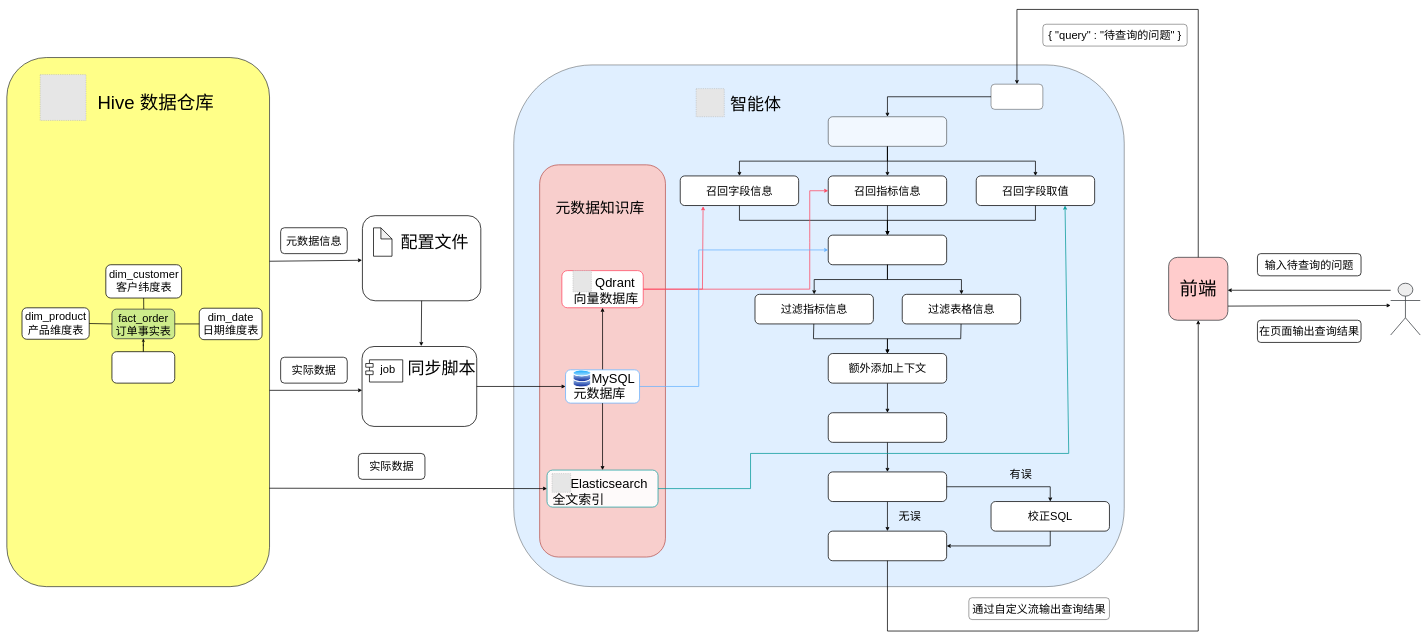
Image size: 1427x640. Some labels were removed from this diagram. Grey dashed boxes stand in for pictures. Here are the shapes that lost their labels. From the top down, the box of each, then its label:
(991, 84, 1043, 109): query
(828, 116, 947, 147): 抽取关键词
(362, 215, 481, 301): 指定需要同步的表格、字段和可以统计的指标，并提供必要说明
(828, 235, 947, 265): 合并召回信息
(1390, 283, 1420, 335): 用户
(111, 351, 175, 383): dim_region 地区维度表
(361, 346, 477, 427): 根据配置文件，同步指定的表、字段和指标信息到知识库
(828, 412, 947, 443): 生成SQL
(828, 471, 947, 502): 校验SQL
(828, 531, 947, 561): 执行SQL
